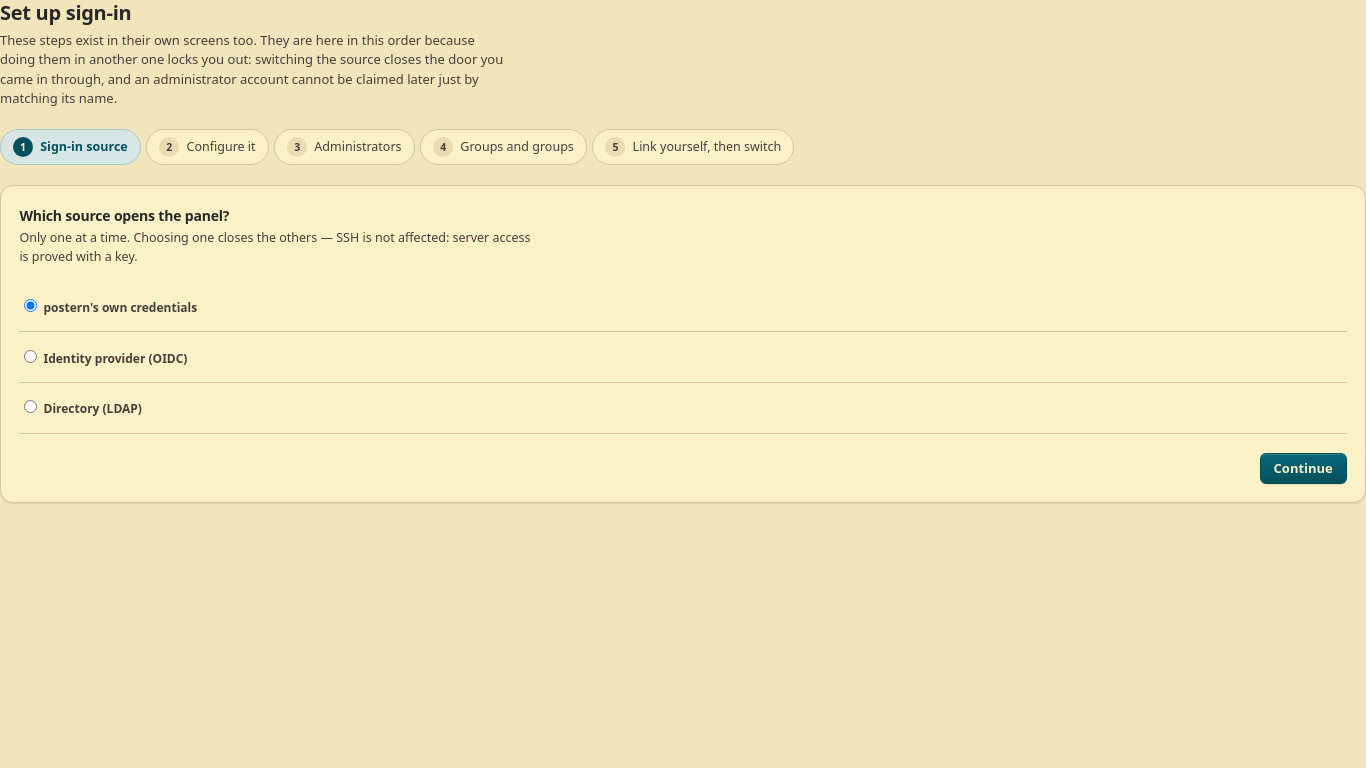
Scenario: oidc yapilandirmasi › ulasilamayan saglayicida kaydedildigini ama calismadigini soyler
Expected: the heading "Which source opens the panel?" is shown, [19,206,229,225]
Click the radio button labelled "Identity provider (OIDC)" at (31, 356), box [24,350,37,363]
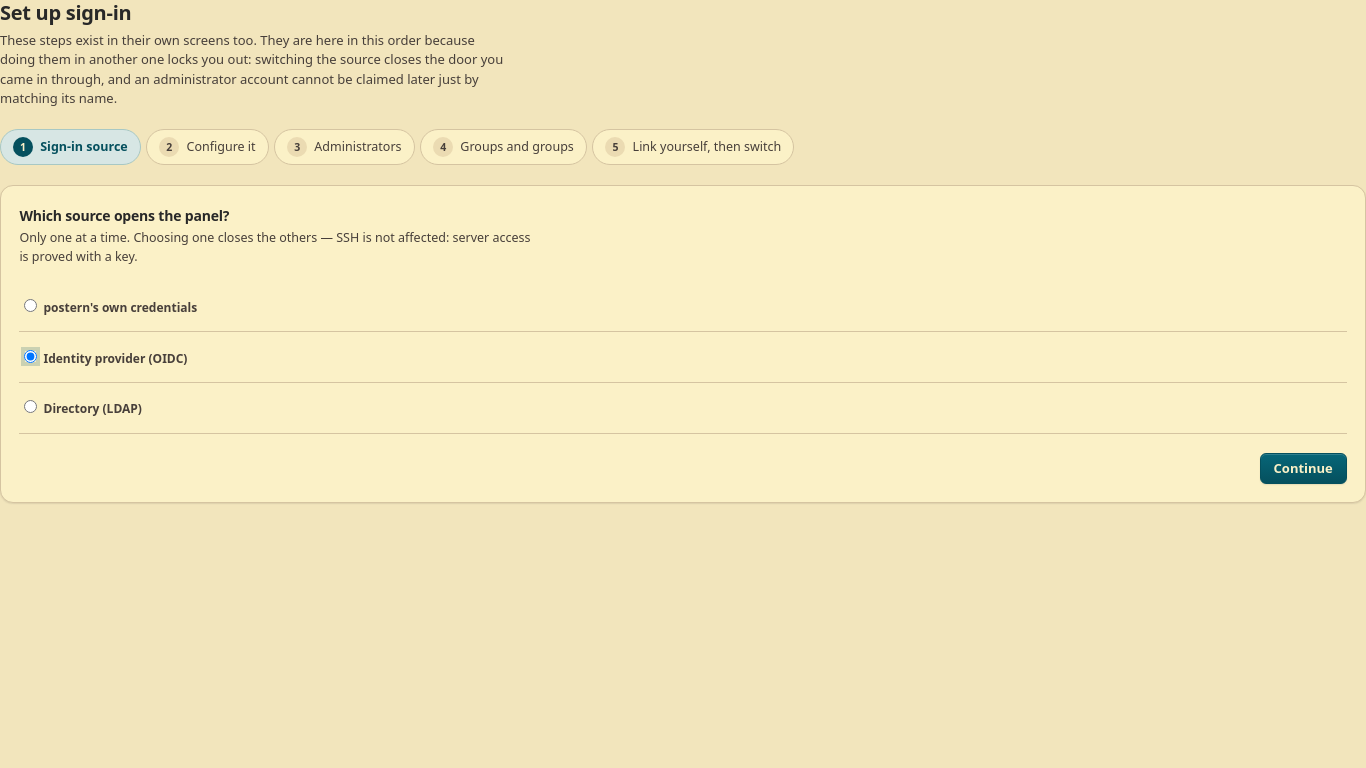
Click the button "2 Configure it" at (207, 147), box [146,129,269,165]
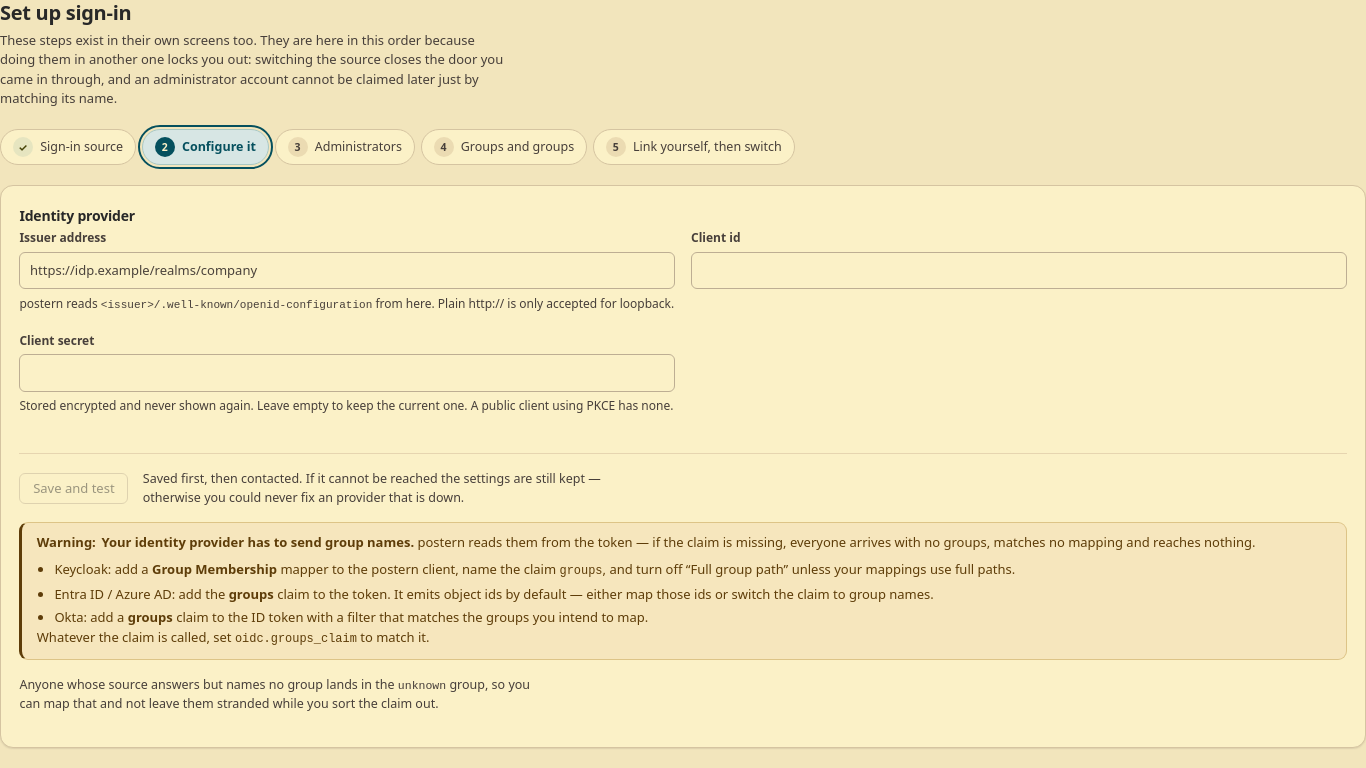
Type "https://idp.example/realms/x" into the field labelled "Issuer address" at (347, 270), box [19,252,675,289]
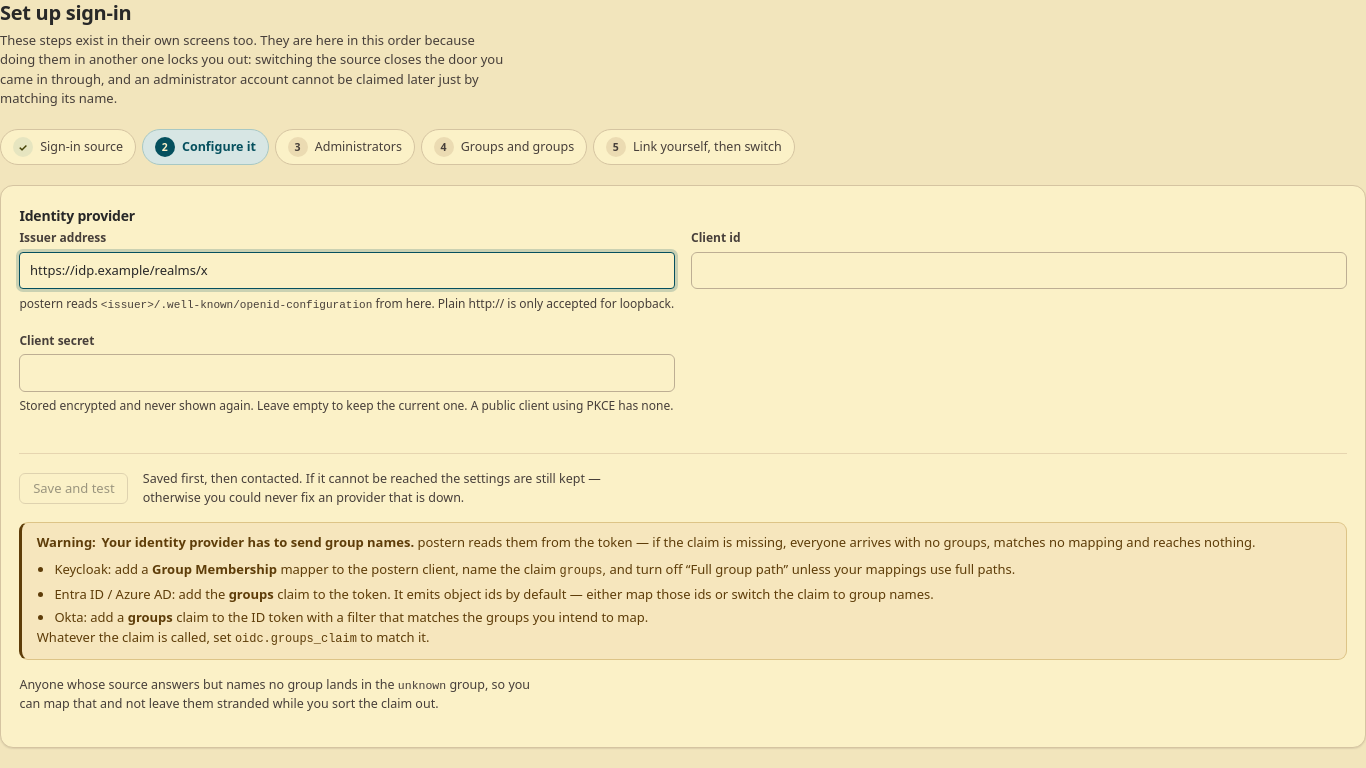
Type "postern" into the field labelled "Client id" at (1019, 270), box [691,252,1347,289]
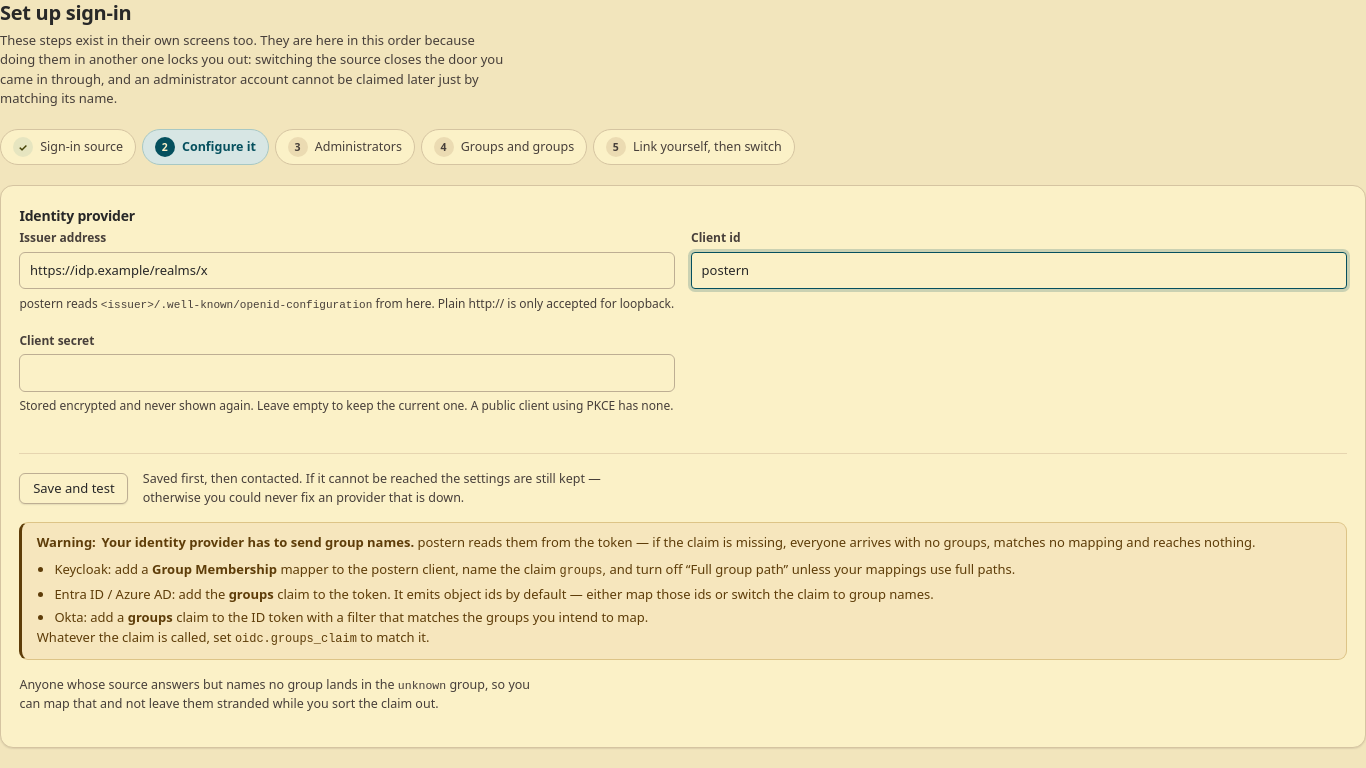
Click the button with aria-label "save and contact the identity provider" at (74, 489), box [19,473,128,504]
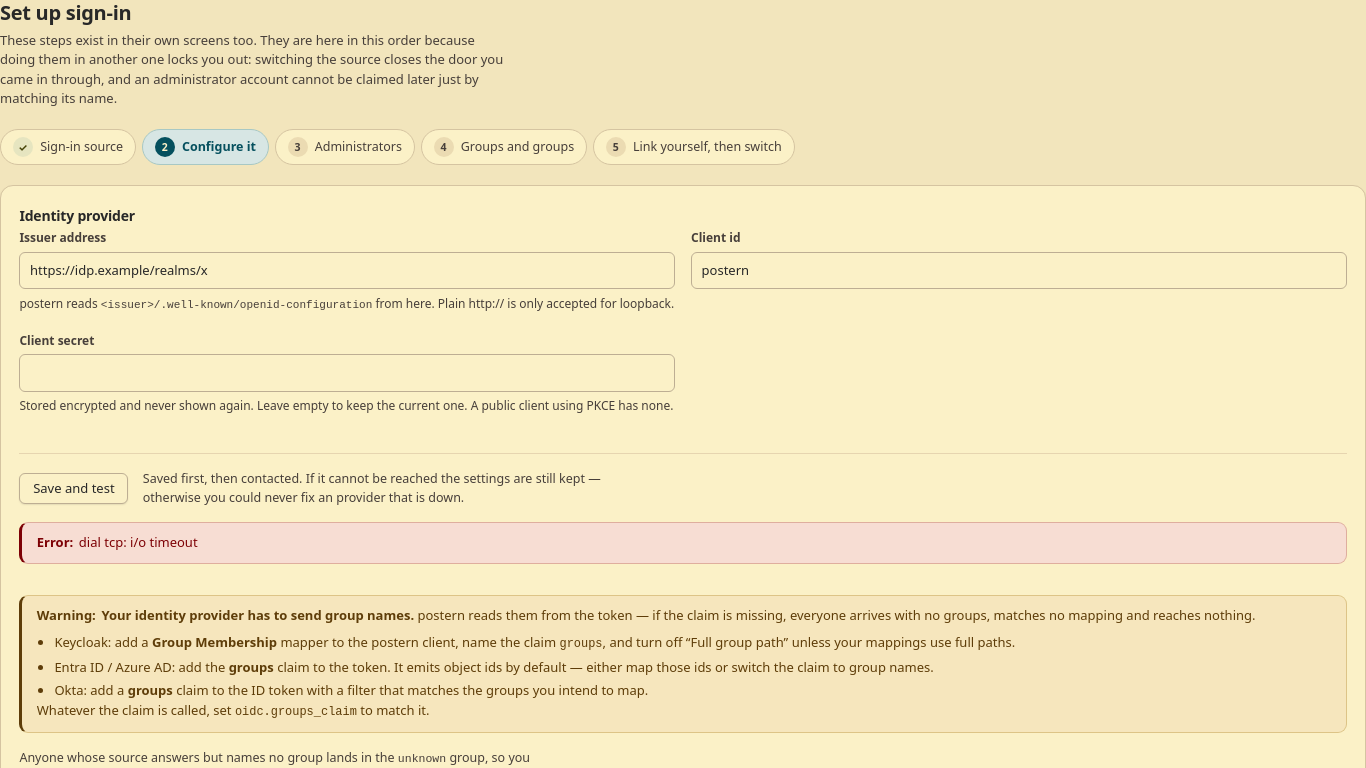
Result: the text "dial tcp: i/o timeout" is shown at [19,522,1347,564]
